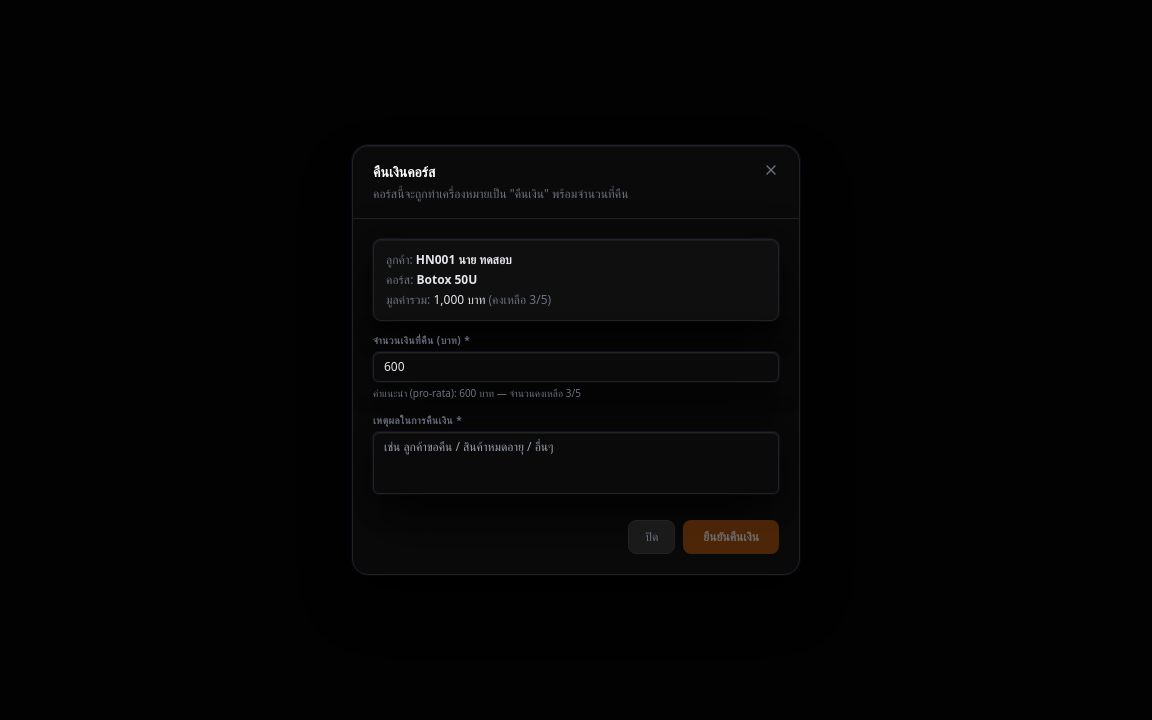
it: M2 RefundCourseModal › M2.3 amount > totalSpent → submit disabled
Type "r" into the text box with test id "refund-course-reason" at coordinates (576, 463), box [373,432,779,494]
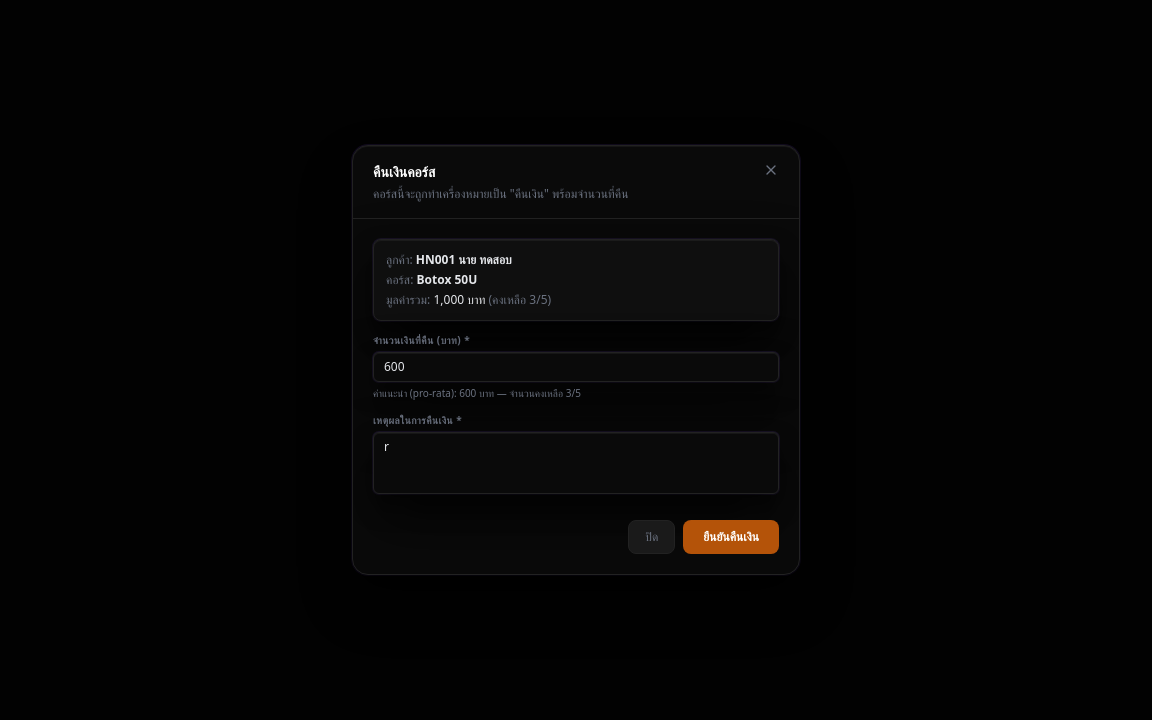
Replace the text in the number field with test id "refund-course-amount" with "99999" at coordinates (576, 367), box [373,352,779,382]
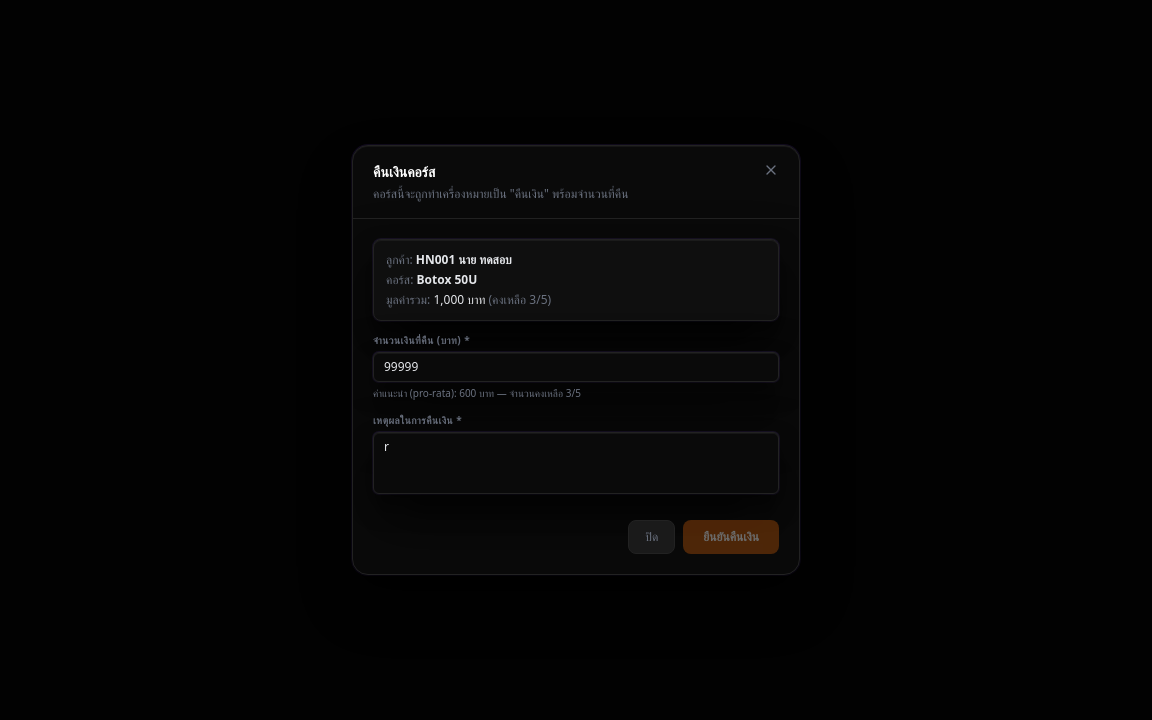
Expected: the button with test id "refund-course-submit" is disabled, [683,520,779,554]
